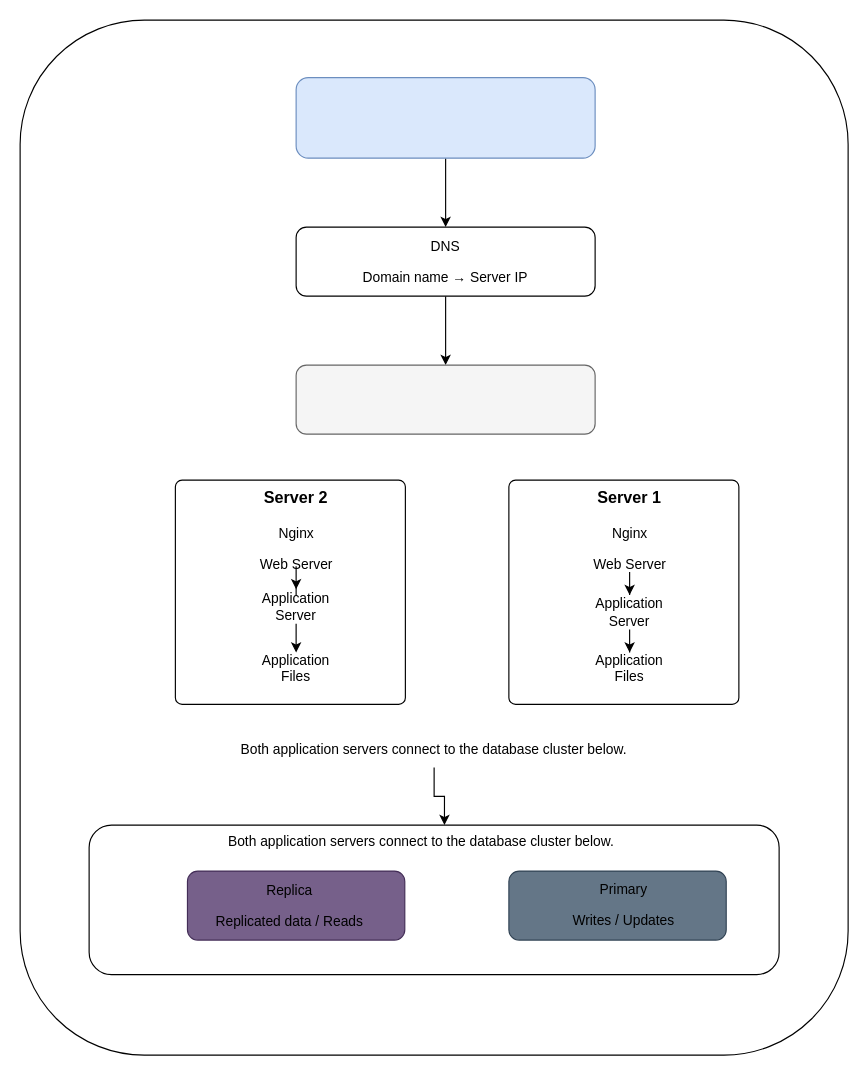
This 868x1075 diagram has some shape labels left out. The shapes that lost their labels are listed below. From the top down, each one's centre as x and y in pixels, then its label:
the point at 445,117: User / Client www.foobar.com
the point at 445,399: HAProxy — Load Balancer Distributes requests using Round Robin
